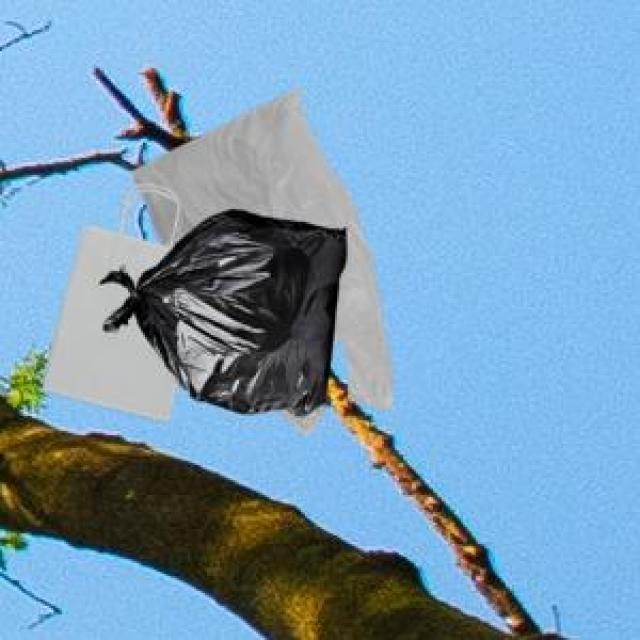miscellaneous trash: (96, 205, 341, 412)
paper: (38, 186, 173, 418)
